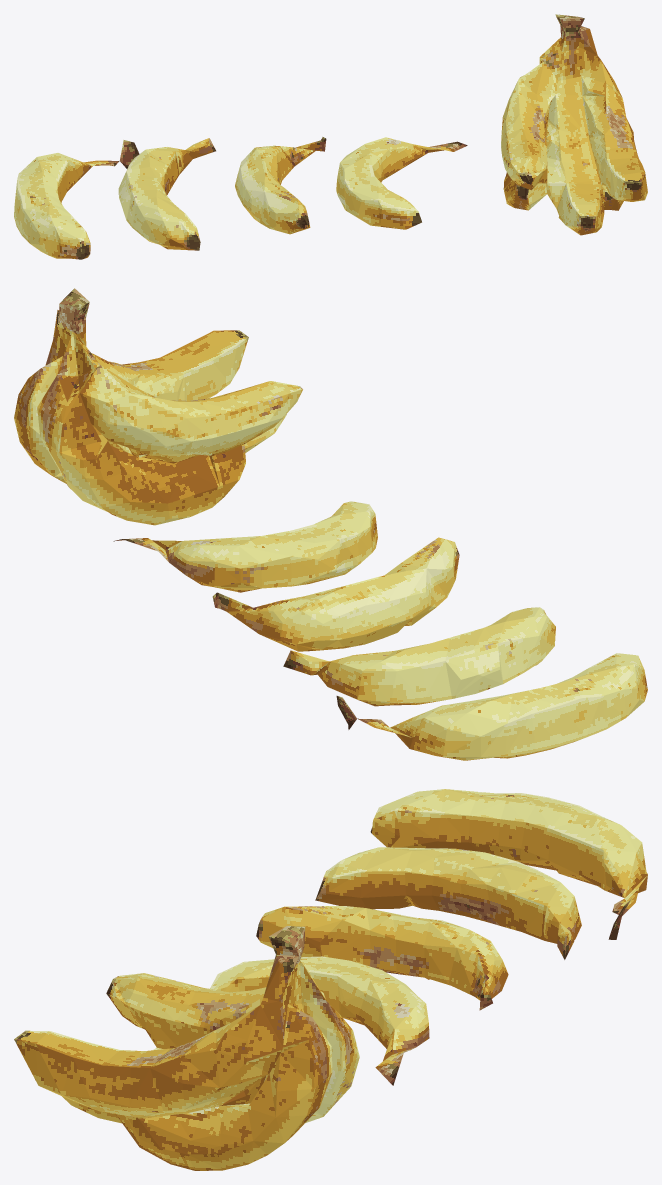
File: banana.glb
3 views of the same model, one above another, from view 1: azimuth 30°, elevation 25°; view 2: azimuth 150°, elevation 25°; view 3: azimuth 270°, elevation 25° (orthographic). The views are drawn at different scales.
Parts seen in each view (by area): view 1: model_m; view 2: model_m; view 3: model_m.
Part boxes in pixels (box(x1,y1,x2,y2)): model_m: box(14, 14, 647, 259); model_m: box(14, 288, 647, 760); model_m: box(14, 789, 647, 1170).
Size of the model in its own units: 39.65 by 12.27 by 29.96.
1 material, 1 textured.
